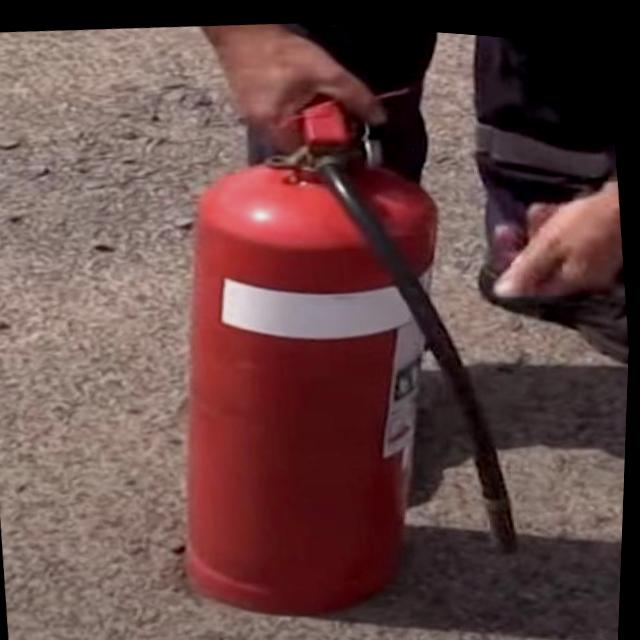FireExtinguisher: (117, 47, 558, 640)
